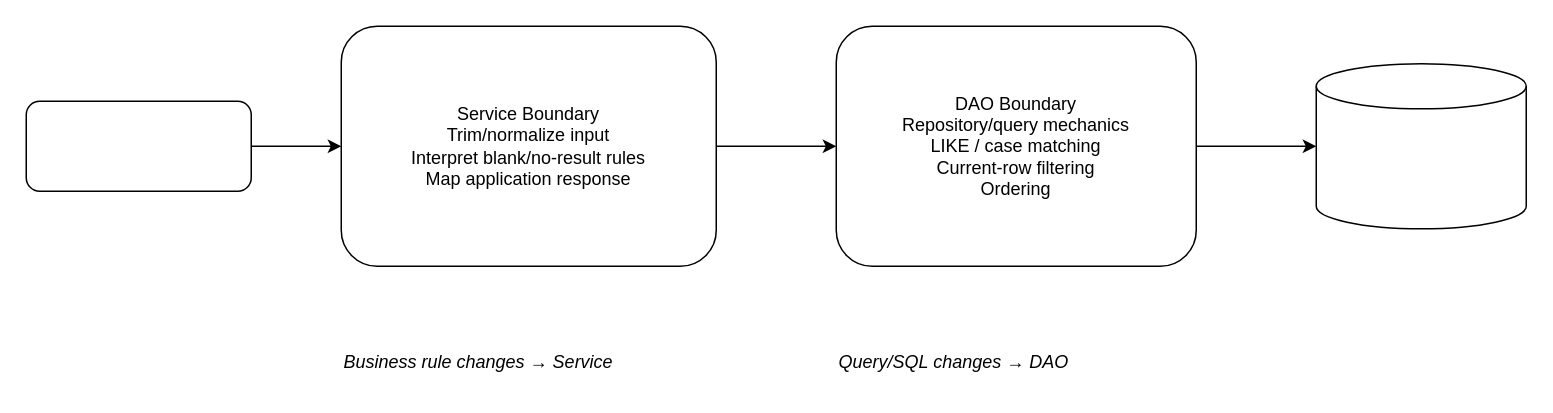
The diagram is 1553 pixels wide and 413 high, and some of its shapes have lost their labels. Each missing label, with the centre of its shape:
"PostgreSQL" belongs at (1420,145).
"User Search Text" belongs at (138,145).
